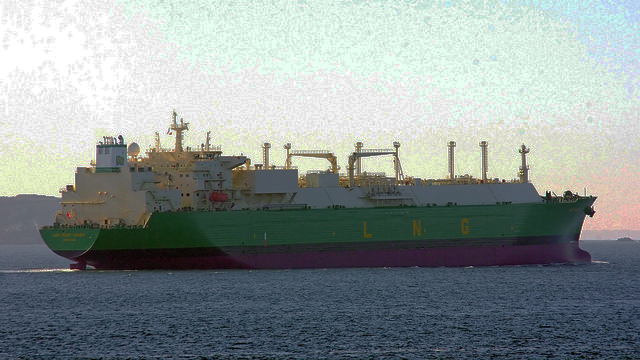LNG_ship: (39, 114, 604, 265)
